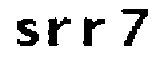7: (114, 3, 151, 51)
r: (45, 16, 72, 51), (82, 16, 108, 49)
s: (13, 17, 38, 47)
